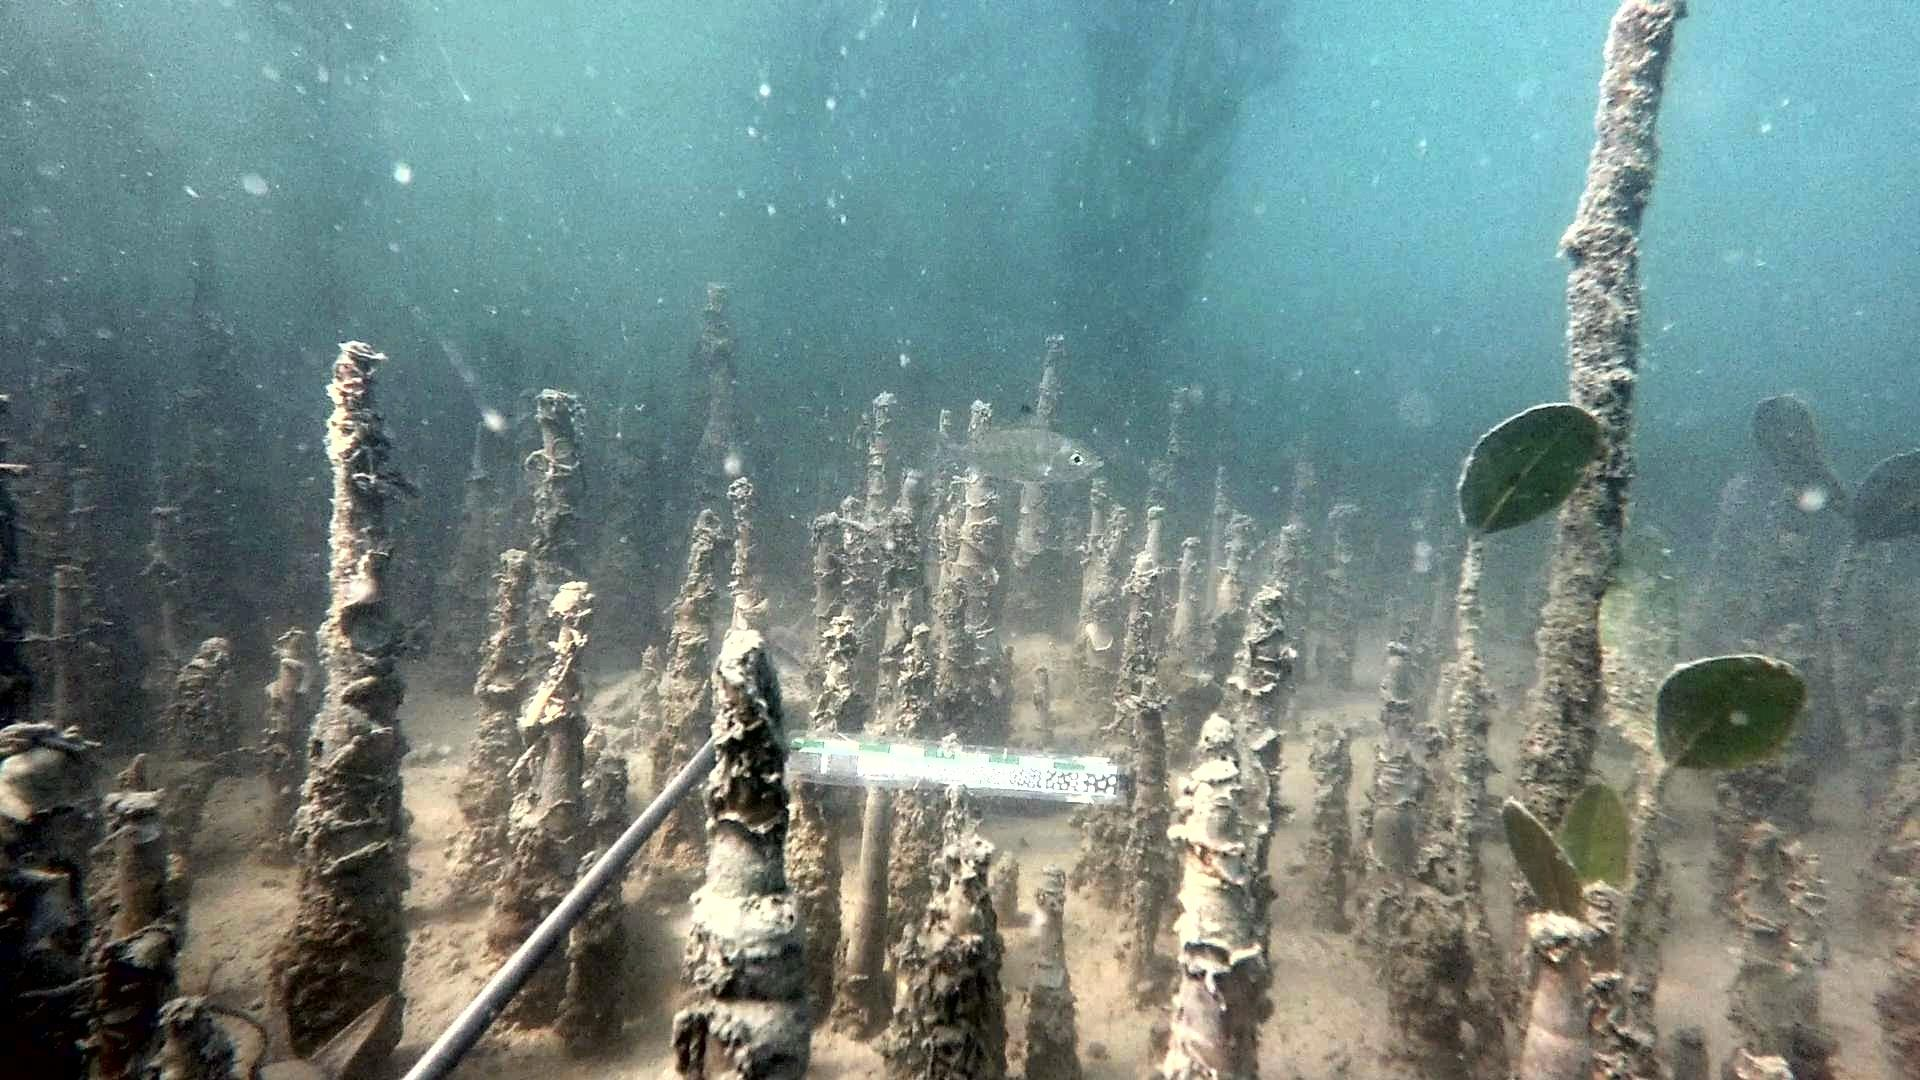gerres: (927, 403, 1106, 486)
